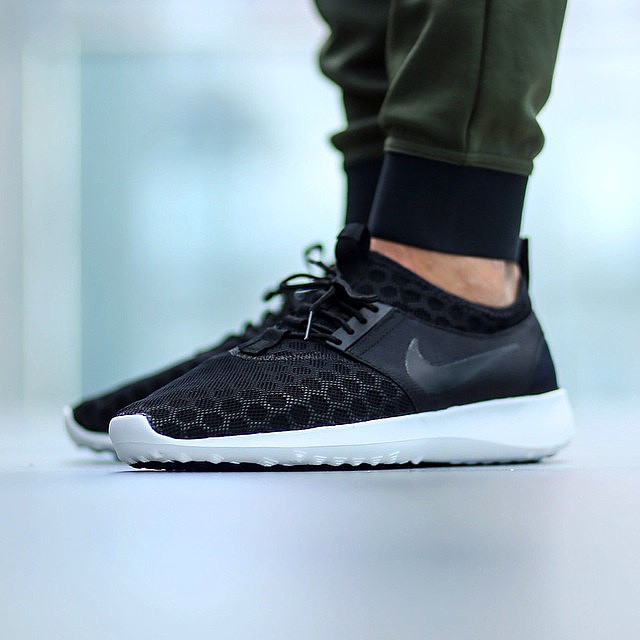sneaker: (91, 195, 599, 497)
